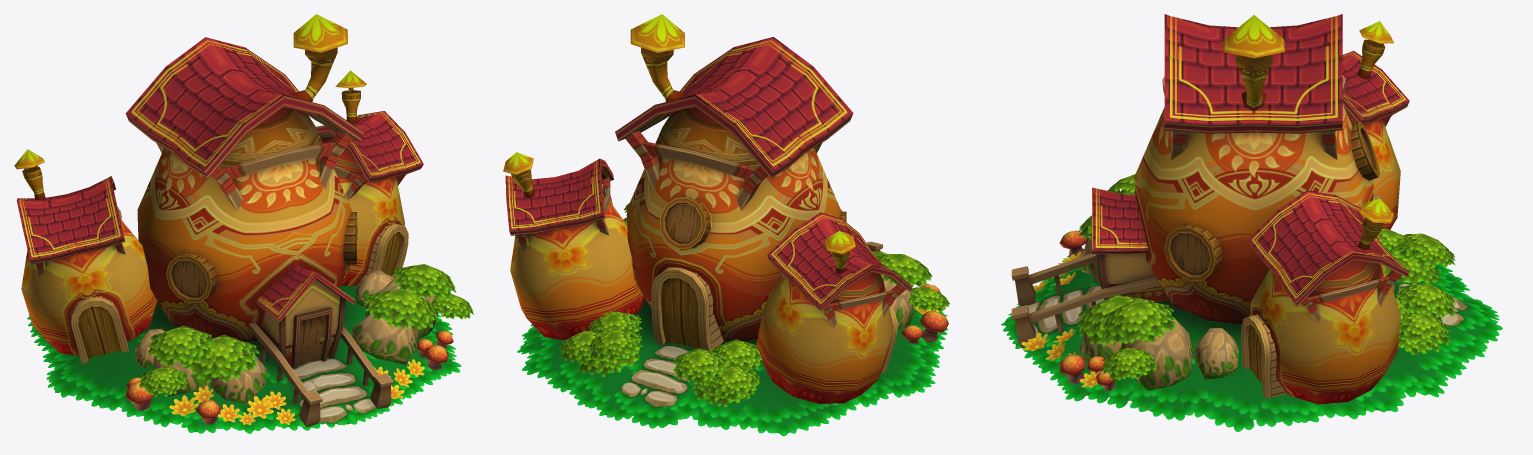
The model's file is Egg_House_09.FBX.
3 views of the same model, side by side, from view 1: azimuth 30°, elevation 25°; view 2: azimuth 150°, elevation 25°; view 3: azimuth 270°, elevation 25° (orthographic). The views are drawn at different scales.
Visible parts, largest first — view 1: Egg_House_09; view 2: Egg_House_09; view 3: Egg_House_09.
Boxes of the visible parts, <box> form: Egg_House_09: <box>14,14,473,433</box>; Egg_House_09: <box>503,14,949,436</box>; Egg_House_09: <box>1001,14,1502,431</box>.
Bounding box in the file's own units: 6.39 × 4.71 × 6.39.
